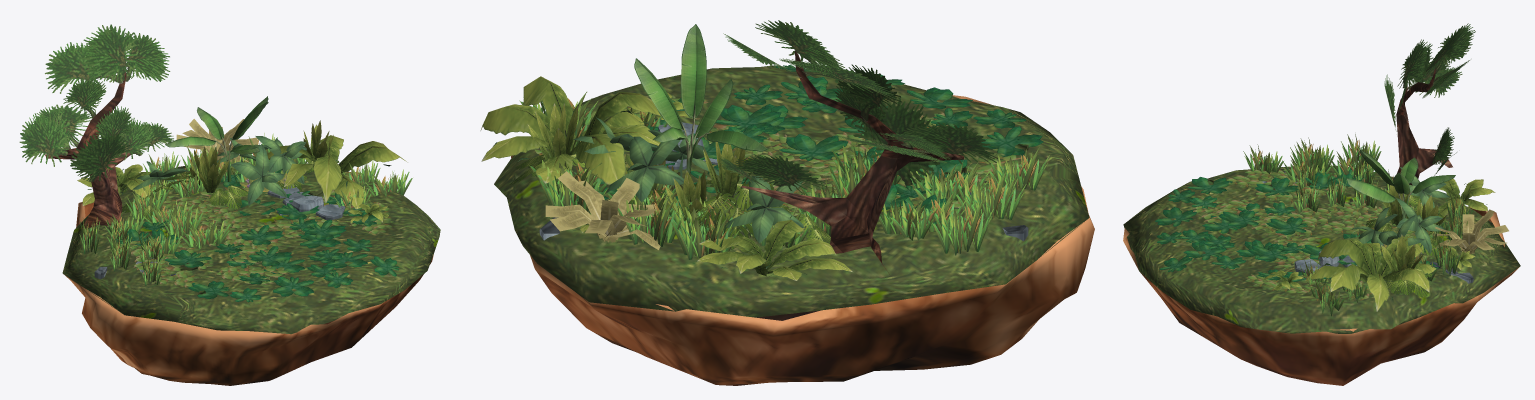
Rendered from Ilha tropical.FBX.
3 renders of one model, left to right at view 1: azimuth 30°, elevation 25°; view 2: azimuth 150°, elevation 25°; view 3: azimuth 270°, elevation 25°, orthographic. The views are drawn at different scales.
Parts seen in each view (by area): view 1: FLorestaMesh; view 2: FLorestaMesh; view 3: FLorestaMesh.
Boxes of the visible parts, box(x1,y1,x2,y2) form: FLorestaMesh: box(19, 24, 440, 385); FLorestaMesh: box(480, 20, 1094, 385); FLorestaMesh: box(1123, 23, 1520, 385).
Bounding box in the file's own units: 59.33 × 46.18 × 56.95.
